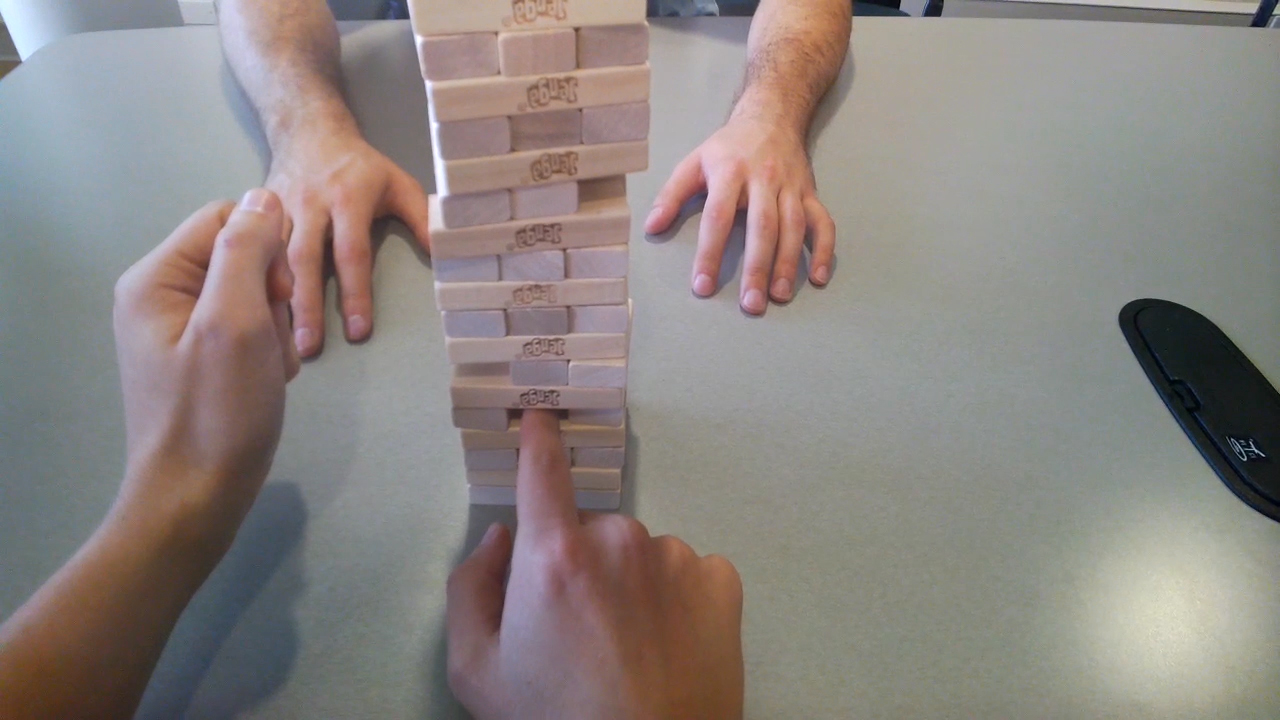hand: (444, 411, 747, 716), (117, 185, 297, 562), (270, 127, 422, 344), (654, 119, 826, 300)
